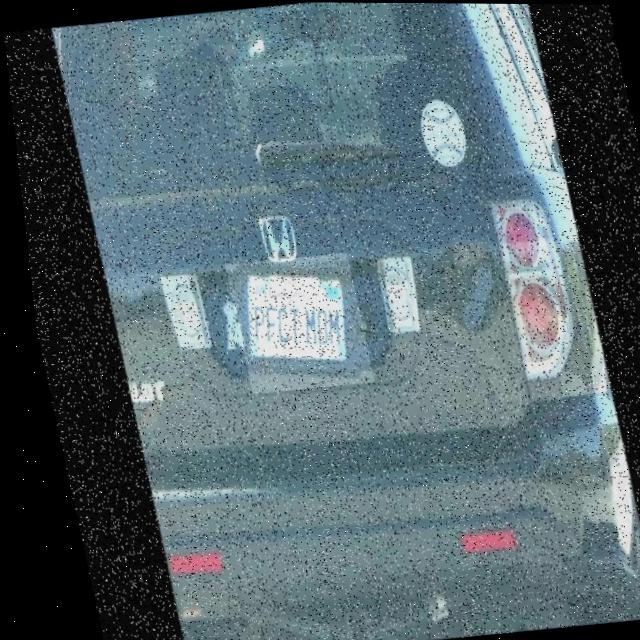LicensePlate: (217, 251, 367, 394)
